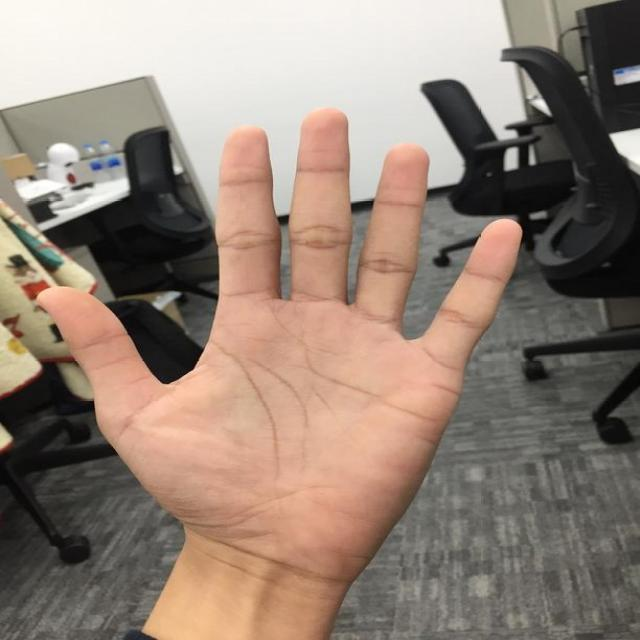hand: (35, 105, 524, 587)
